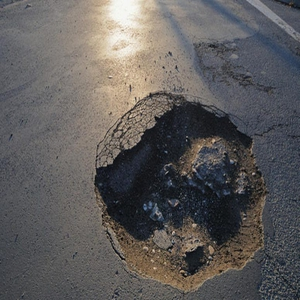pothole: (85, 85, 270, 298)
